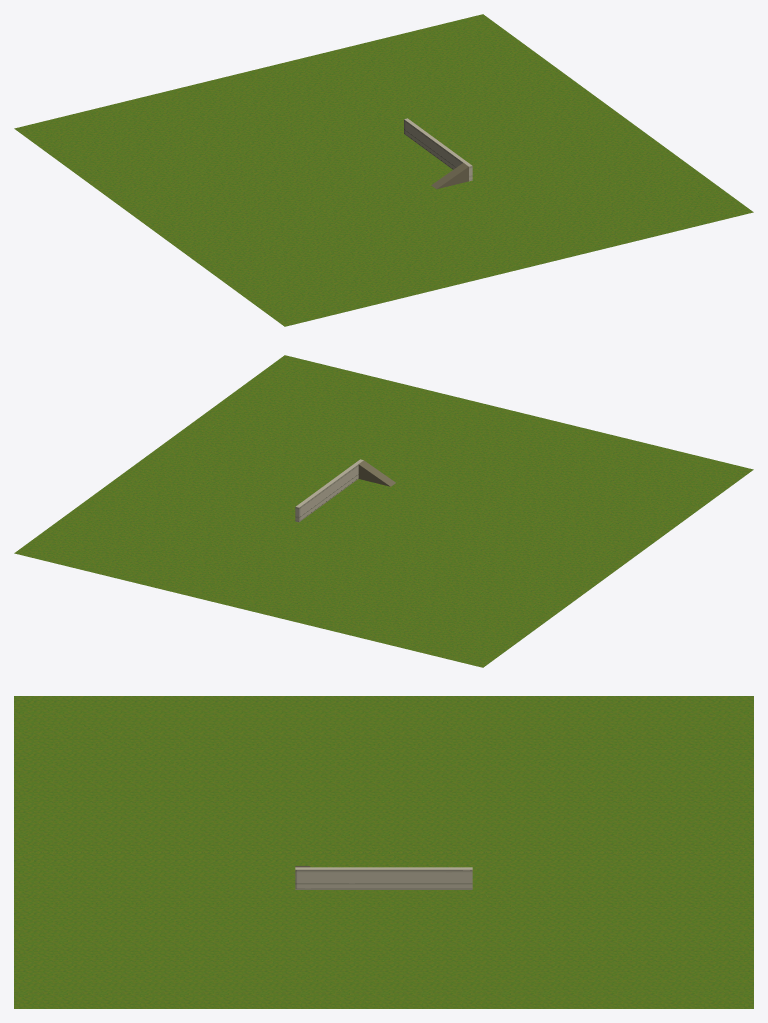
File: AnimFinalProj.fbx
3 views of the same model, one above another, from view 1: azimuth 30°, elevation 25°; view 2: azimuth 150°, elevation 25°; view 3: azimuth 270°, elevation 25° (orthographic). The views are drawn at different scales.
Parts seen in each view (by area): view 1: Ground_1, Wall_1; view 2: Ground_1, Wall_1; view 3: Ground_1, Wall_1.
Boxes of the visible parts, <box> form: Ground_1: <box>14,14,753,326</box>; Wall_1: <box>404,118,472,181</box>; Ground_1: <box>14,355,753,667</box>; Wall_1: <box>295,459,363,522</box>; Ground_1: <box>14,696,753,1008</box>; Wall_1: <box>295,867,472,889</box>.
Bounding box in the file's own units: 100 × 3 × 100.
4 materials, 3 textured.
